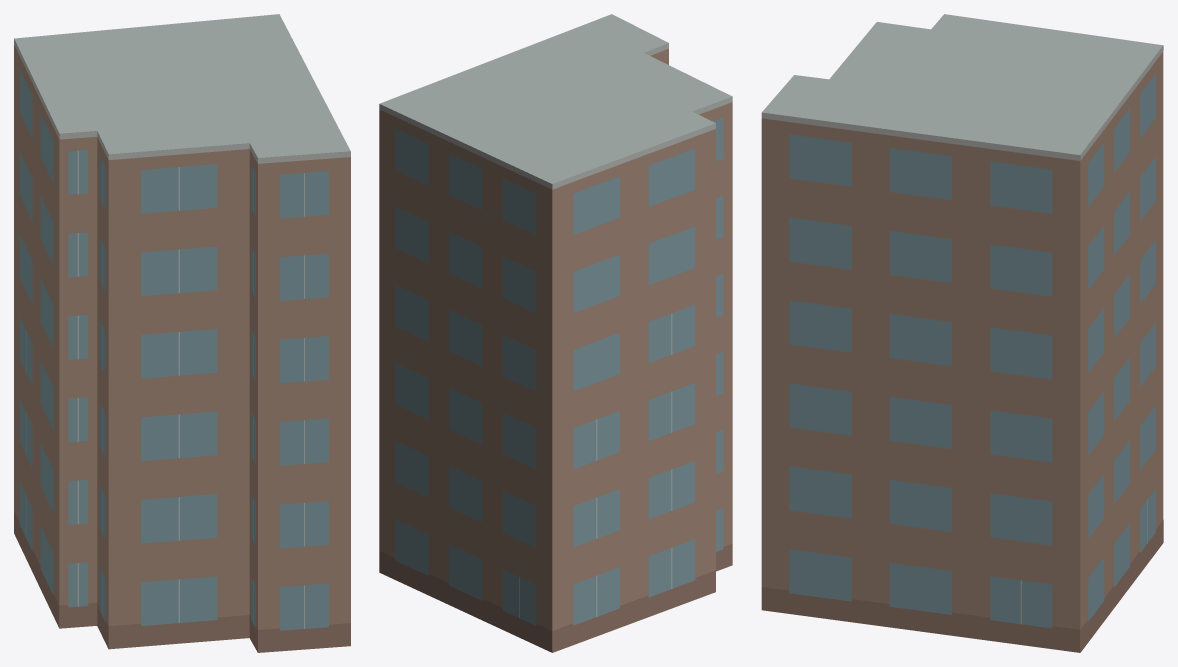
Rendered from survey-upis-32881409.glb.
The picture shows the model from 3 angles, left to right: view 1: azimuth 30°, elevation 25°; view 2: azimuth 150°, elevation 25°; view 3: azimuth 270°, elevation 25°; orthographic projection. The views are drawn at different scales.
Parts seen in each view (by area): view 1: survey-upis-32881409.tmp; view 2: survey-upis-32881409.tmp; view 3: survey-upis-32881409.tmp.
Boxes of the visible parts, left/top/right/bottom form: survey-upis-32881409.tmp: left=14, top=14, right=350, bottom=652; survey-upis-32881409.tmp: left=379, top=14, right=732, bottom=652; survey-upis-32881409.tmp: left=761, top=14, right=1163, bottom=652.
Bounding box in the file's own units: 12.67 × 20.8 × 15.23.
